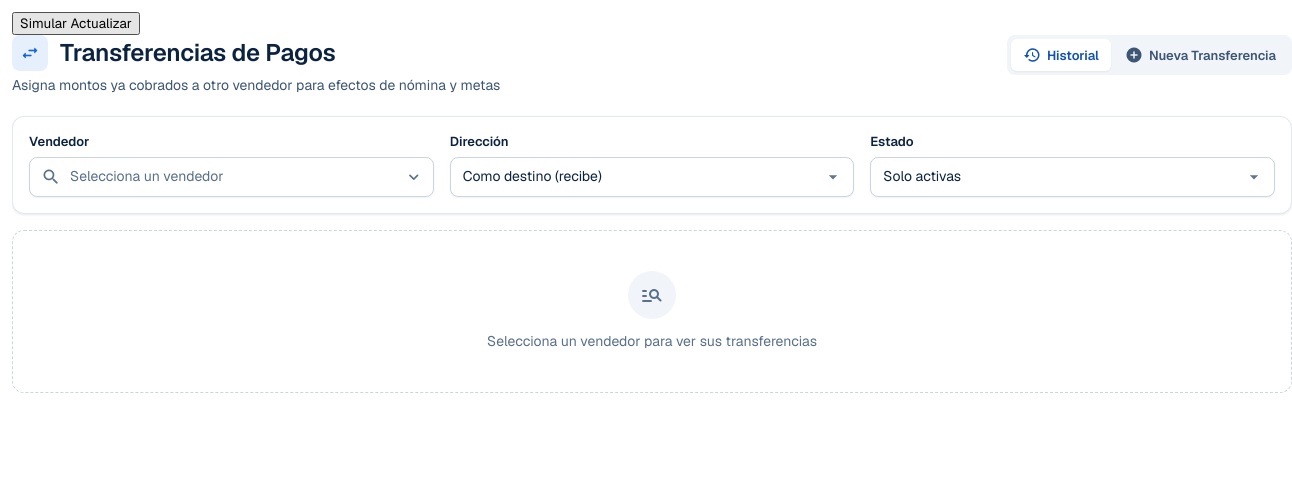
Test: PaymentTransferPanel › revocar con éxito borra el aviso de error anterior (antes lo hacía la recarga, ahora silenciosa)
Type "Nina" into the dropdown labelled "Vendedor". click: (231, 177)
box: [29, 157, 434, 197]
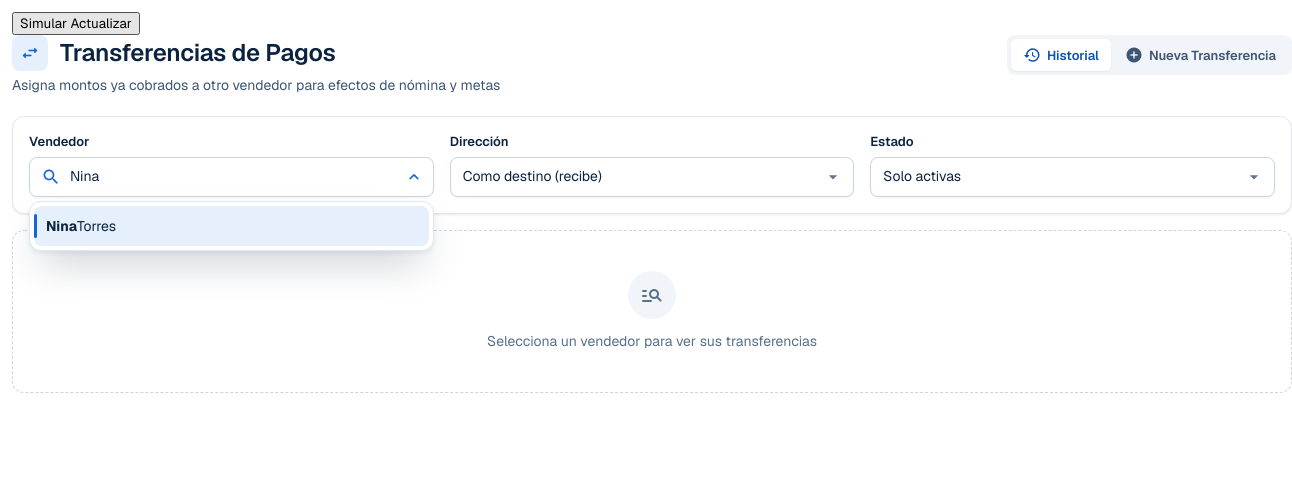
Click the option "NinaTorres". click: (62, 226)
box: [34, 206, 429, 246]
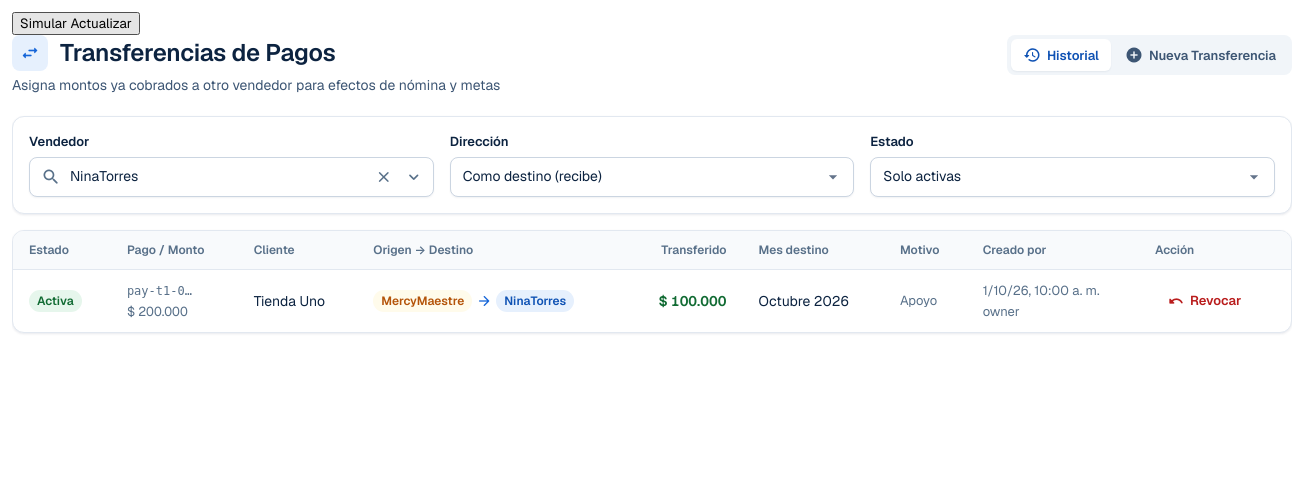
Now the text "Tienda Uno" is shown, box [238, 270, 357, 332]
Click the button "Revocar". click: (1205, 301)
box: [1155, 285, 1254, 317]
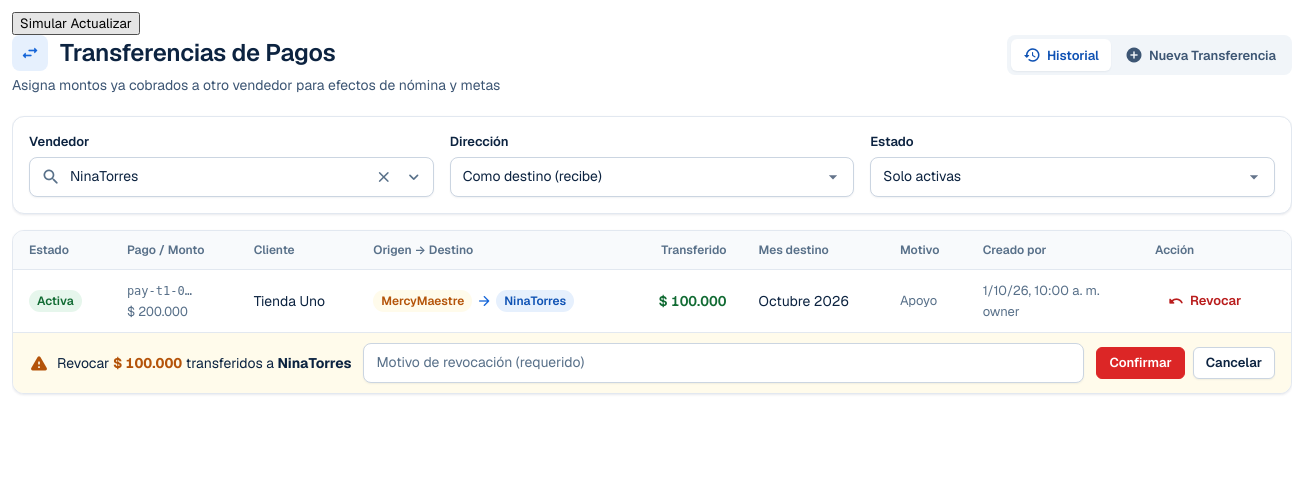
Type "duplicada" into the field labelled "Motivo de revocación". click: (724, 363)
box: [364, 343, 1084, 383]
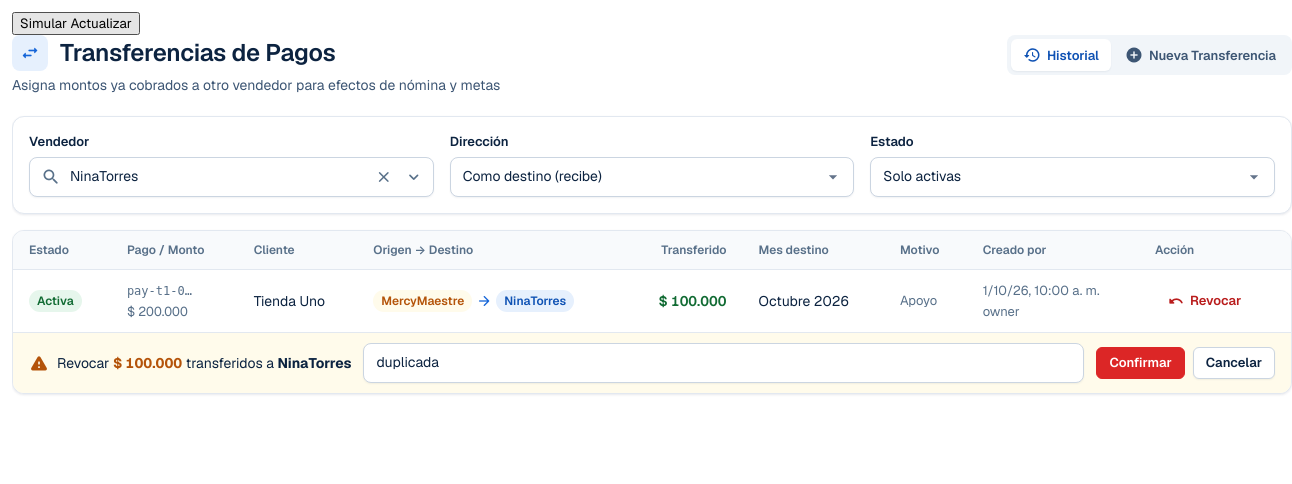
Click the button "Confirmar". click: (1141, 363)
box: [1096, 347, 1185, 379]
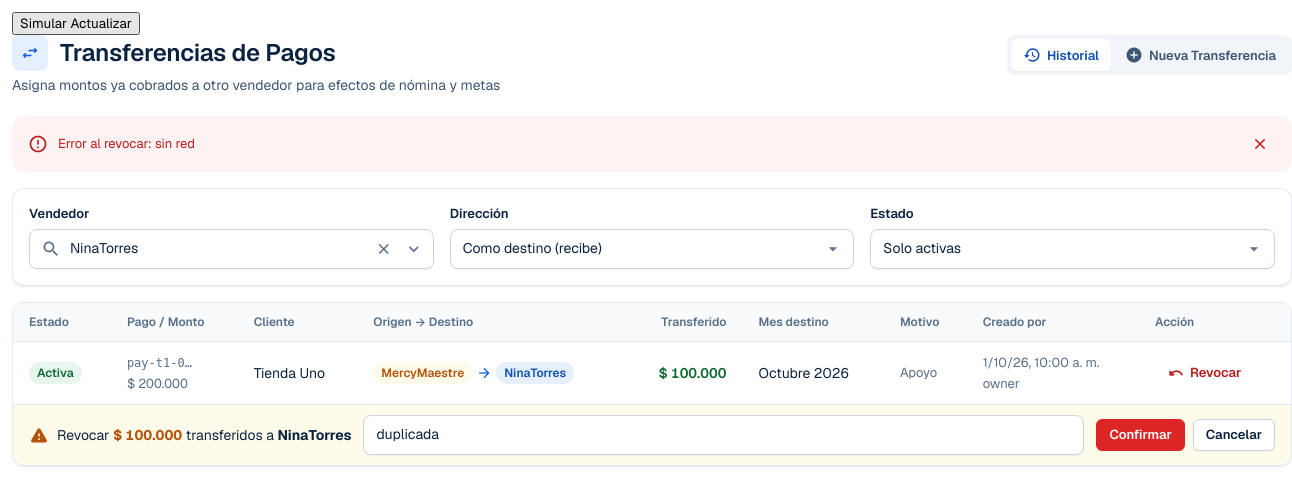
Now the text "Error al revocar: sin red" is shown, box [58, 135, 195, 152]
Click the button "Confirmar". click: (1141, 435)
box: [1096, 419, 1185, 451]
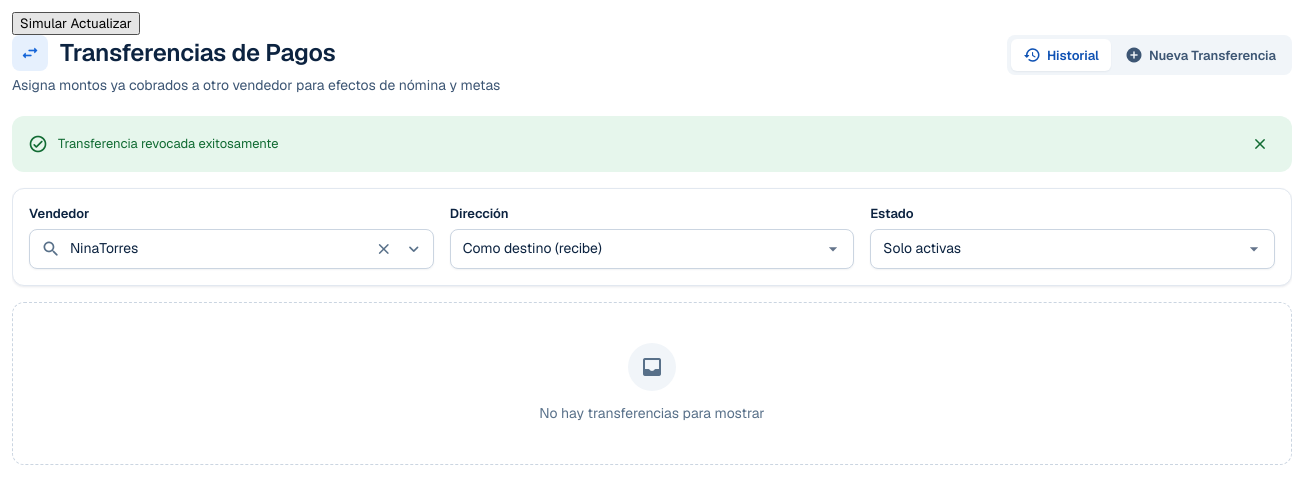
Now the text "Transferencia revocada exitosamente" is shown, box [58, 135, 278, 152]
Now the text "Error al revocar: sin red" is gone
